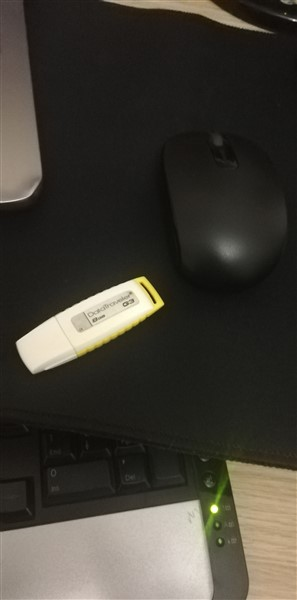flash disk: (13, 273, 170, 377)
klavye: (2, 403, 270, 600)
mouse: (157, 123, 295, 300)
